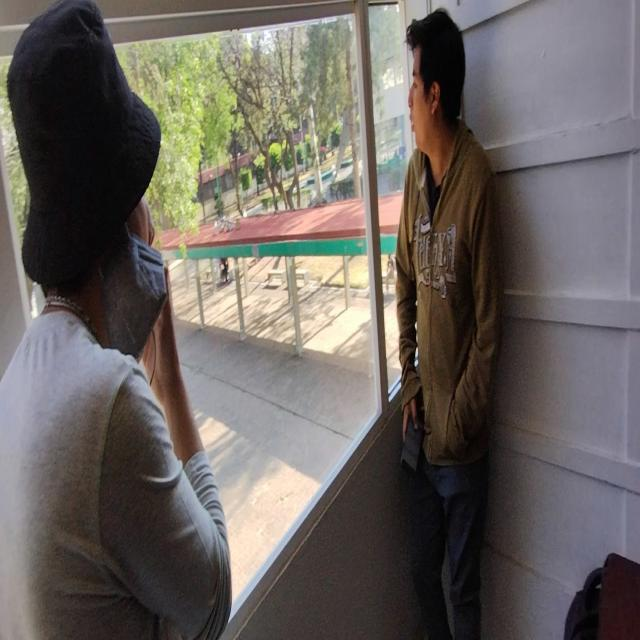adult: (0, 1, 230, 640), (396, 7, 504, 640)
